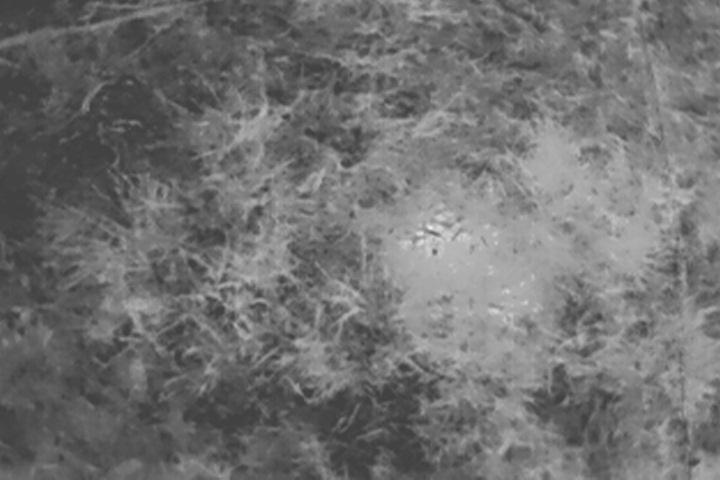landmine: (398, 207, 547, 325)
